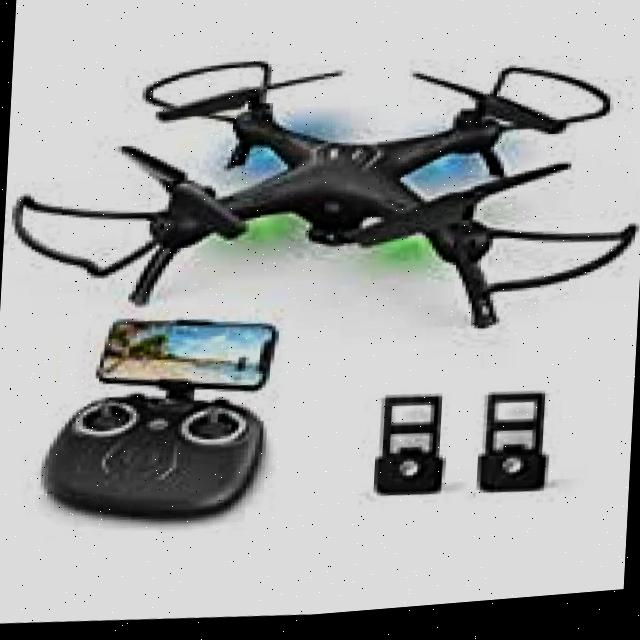drone: (0, 10, 640, 382)
